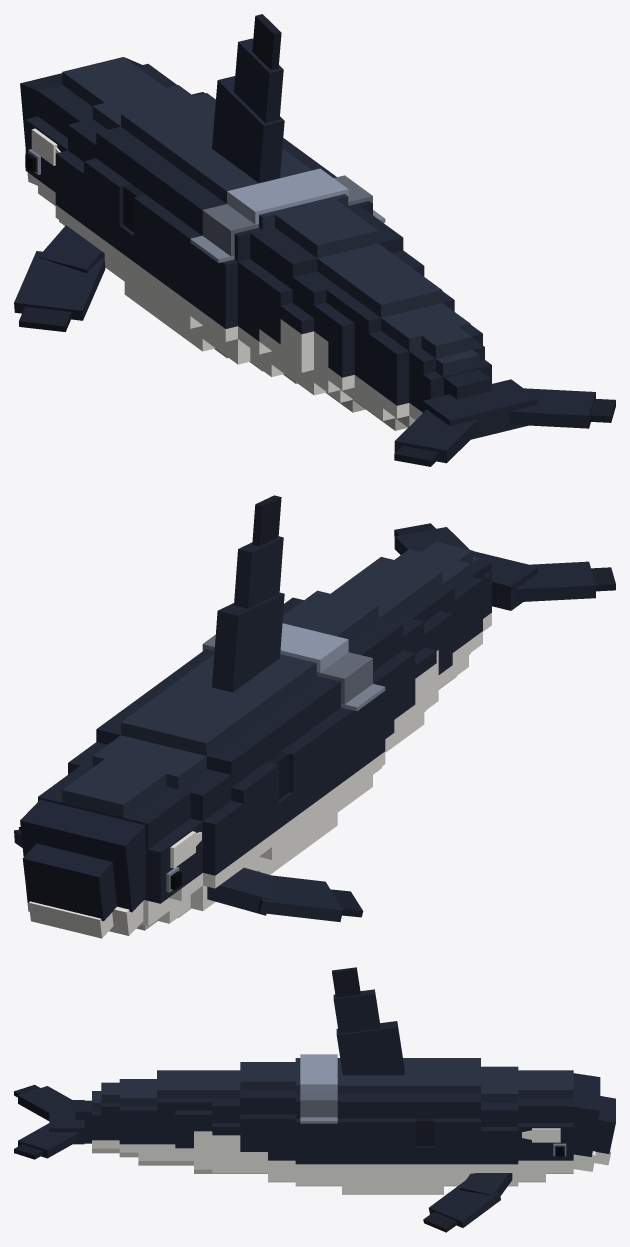
Rendered from Orca.obj.
3 views of the same model, one above another, from view 1: azimuth 30°, elevation 25°; view 2: azimuth 150°, elevation 25°; view 3: azimuth 270°, elevation 25° (orthographic). The views are drawn at different scales.
Parts seen in each view (by area): view 1: S4, T1, T2, Fluke, T3, Head, T4, S2, S3, FlipperL, T5, S1 (+2 smaller); view 2: Head, S4, S2, S1, S3, T2, T1, Fluke, FlipperL, T3, T4, T5 (+1 smaller); view 3: S4, Head, T2, T1, S3, T3, S2, S1, T4, Fluke, T5, FlipperR (+2 smaller).
Part boxes in pixels (bbox=[...]): S4: bbox=[140, 14, 336, 358]; T1: bbox=[190, 168, 385, 371]; T2: bbox=[238, 199, 403, 383]; Fluke: bbox=[394, 379, 615, 466]; T3: bbox=[280, 243, 424, 412]; Head: bbox=[20, 57, 177, 225]; T4: bbox=[328, 269, 454, 420]; S2: bbox=[84, 93, 215, 281]; S3: bbox=[112, 119, 287, 314]; FlipperL: bbox=[14, 225, 105, 331]; T5: bbox=[368, 303, 482, 430]; S1: bbox=[55, 85, 204, 237]; Head: bbox=[20, 759, 202, 938]; S4: bbox=[153, 495, 349, 861]; S2: bbox=[96, 701, 271, 871]; S1: bbox=[68, 735, 243, 917]; S3: bbox=[125, 681, 300, 874]; T2: bbox=[282, 590, 415, 774]; T1: bbox=[202, 623, 385, 812]; Fluke: bbox=[394, 523, 615, 610]; FlipperL: bbox=[207, 867, 363, 921]; T3: bbox=[331, 577, 438, 739]; T4: bbox=[353, 557, 454, 689]; T5: bbox=[394, 549, 482, 686]; S4: bbox=[332, 967, 406, 1194]; Head: bbox=[518, 1070, 615, 1182]; T2: bbox=[240, 1062, 295, 1182]; T1: bbox=[295, 1054, 341, 1186]; S3: bbox=[407, 1058, 443, 1194]; T3: bbox=[194, 1070, 240, 1173]; S2: bbox=[444, 1058, 480, 1186]; S1: bbox=[481, 1066, 518, 1186]; T4: bbox=[157, 1070, 193, 1165]; Fluke: bbox=[14, 1084, 84, 1159]; T5: bbox=[119, 1079, 156, 1165]; FlipperR: bbox=[423, 1173, 512, 1232].
Bounding box in the file's own units: 12.64 × 11.39 × 29.24.
1 material, 1 textured.
